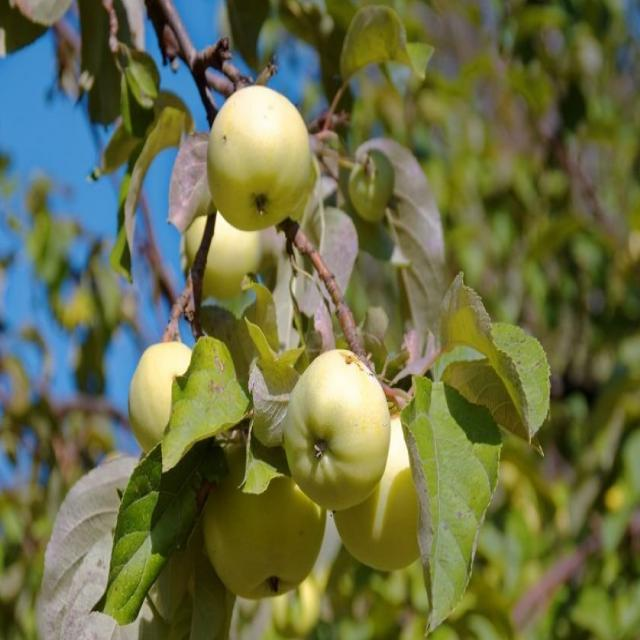Green Apple: (215, 437, 328, 612), (339, 399, 432, 577), (291, 336, 393, 495), (211, 82, 313, 237), (184, 200, 277, 308), (140, 336, 200, 433)
